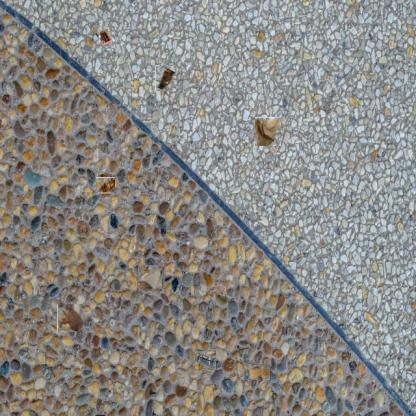dirty: (255, 117, 281, 146), (139, 266, 163, 290), (155, 65, 176, 91), (93, 26, 115, 48), (195, 350, 215, 370), (97, 176, 114, 193)
liquid: (57, 304, 84, 332), (244, 364, 270, 380)
